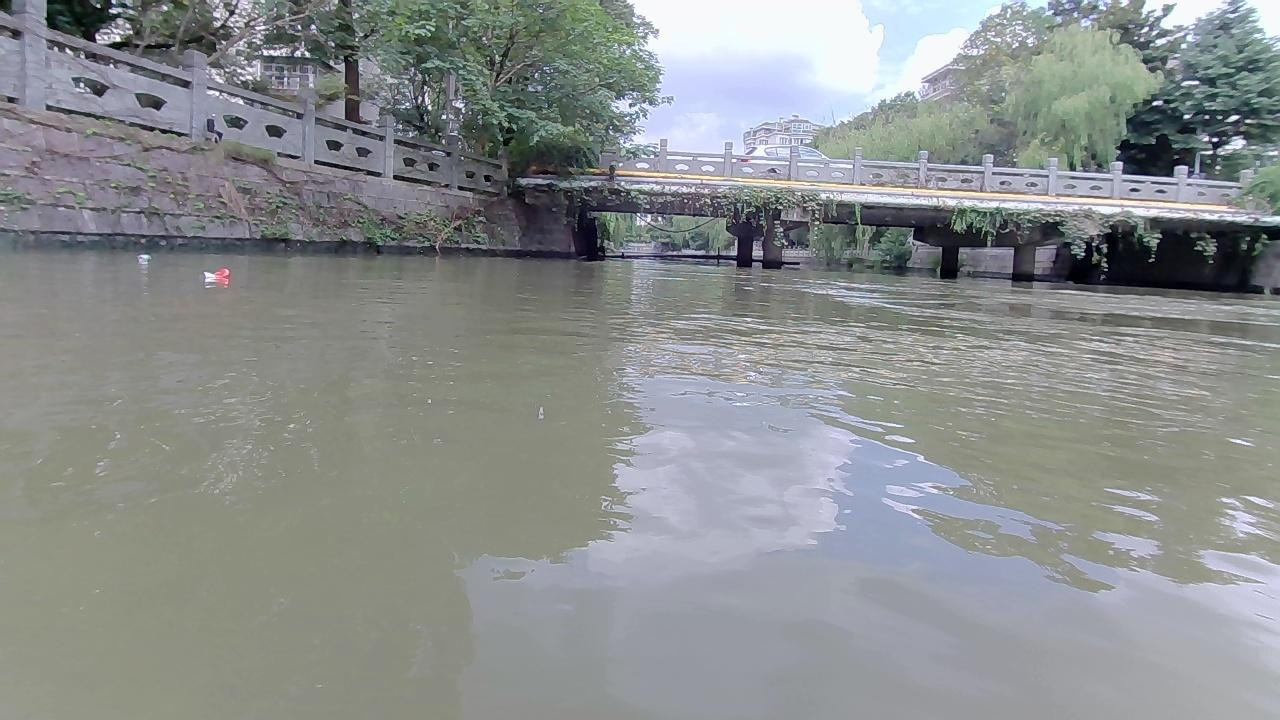bottle: (201, 267, 230, 278), (135, 253, 152, 260)
